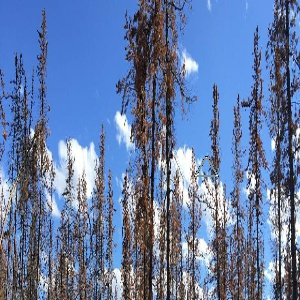triangle: (192, 152, 220, 180)
